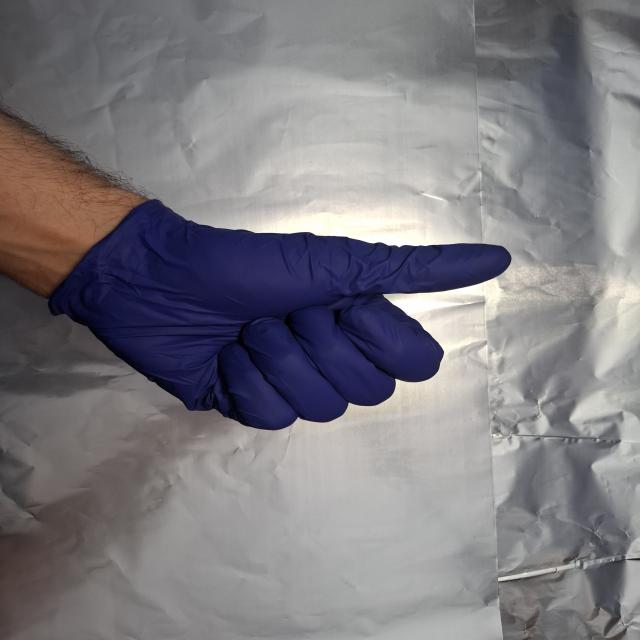glove_on: (55, 197, 516, 433)
